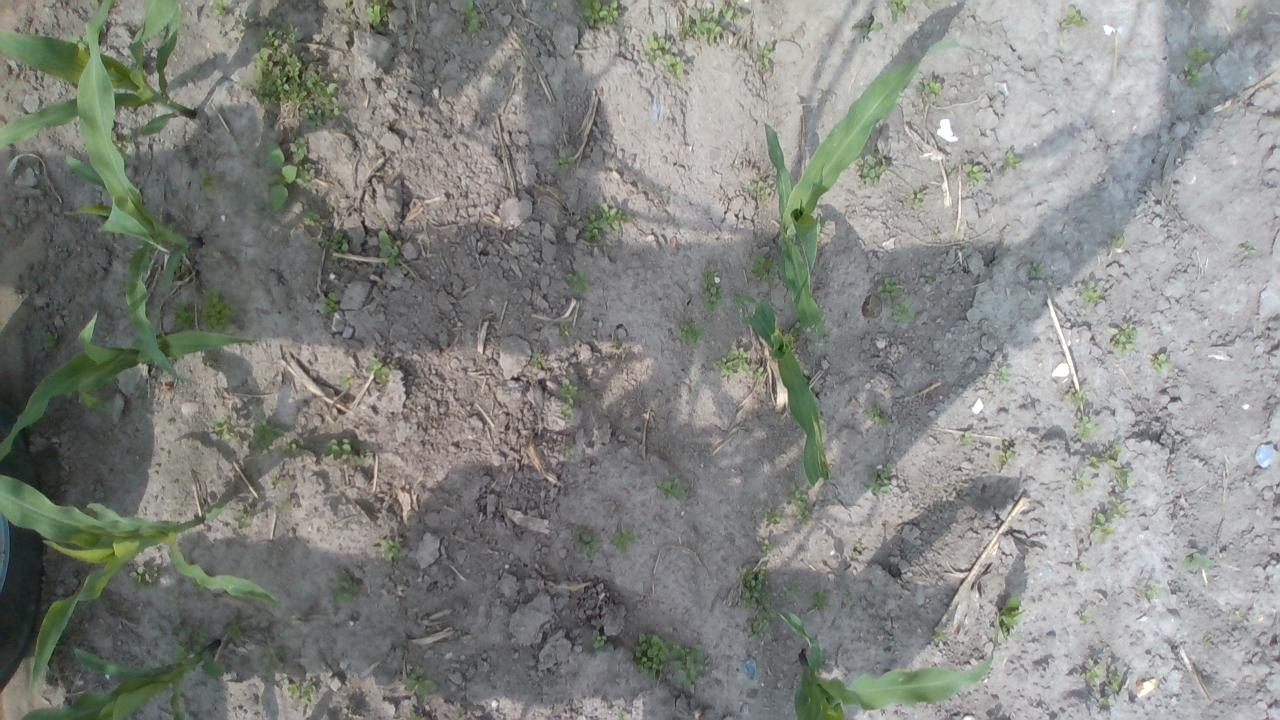Maize: (761, 34, 990, 350), (0, 470, 279, 694), (0, 240, 257, 464), (62, 0, 200, 389), (0, 0, 196, 150), (774, 601, 1002, 720), (730, 288, 837, 488), (9, 639, 226, 720)
Weeds: (241, 17, 343, 131), (631, 630, 706, 690), (735, 562, 777, 639), (257, 136, 298, 214), (198, 288, 249, 334), (642, 31, 686, 82), (873, 277, 917, 325), (582, 202, 634, 241), (167, 618, 211, 663), (678, 5, 722, 46), (1090, 496, 1126, 540), (995, 592, 1024, 644), (328, 570, 362, 611), (322, 438, 372, 465), (1182, 45, 1212, 88), (575, 0, 619, 29), (700, 264, 726, 312), (748, 246, 779, 286), (711, 345, 750, 376), (376, 228, 403, 272), (252, 419, 286, 453), (404, 666, 436, 702), (856, 152, 888, 188), (862, 461, 894, 496), (785, 483, 812, 524), (316, 232, 351, 263), (1082, 441, 1122, 468), (257, 642, 285, 679), (572, 528, 604, 560), (128, 564, 162, 594), (1109, 322, 1139, 356), (458, 0, 487, 35), (914, 76, 943, 108), (169, 298, 196, 332), (364, 356, 394, 384), (1076, 279, 1102, 310), (658, 473, 688, 499), (863, 401, 889, 431), (676, 320, 708, 344), (547, 148, 576, 174), (280, 434, 311, 458), (1077, 657, 1104, 684), (198, 166, 224, 194), (364, 0, 389, 29), (286, 682, 316, 706), (720, 0, 750, 24), (852, 16, 884, 38), (1106, 463, 1132, 490), (1060, 4, 1087, 30), (750, 42, 773, 72), (378, 534, 402, 562), (1068, 467, 1092, 495), (565, 270, 590, 296), (610, 528, 636, 553), (214, 414, 238, 441), (806, 588, 833, 612), (1072, 415, 1096, 442), (1181, 548, 1210, 570), (558, 377, 579, 406), (109, 130, 133, 154), (746, 179, 771, 202), (961, 162, 987, 184), (1063, 385, 1089, 407), (296, 162, 316, 190), (292, 130, 310, 160), (322, 292, 342, 318), (1104, 662, 1120, 694), (888, 0, 911, 22), (1136, 580, 1160, 601), (1148, 351, 1172, 372), (300, 206, 324, 226), (232, 14, 260, 31), (206, 0, 235, 16), (1001, 150, 1024, 170), (39, 328, 59, 350), (762, 505, 782, 526), (234, 506, 252, 529), (781, 580, 800, 601), (994, 446, 1016, 464), (1024, 260, 1046, 278), (68, 33, 90, 50), (749, 365, 768, 384), (590, 630, 608, 650), (930, 626, 950, 644), (224, 624, 246, 640), (558, 320, 573, 342), (906, 190, 925, 207), (1108, 231, 1128, 247), (994, 365, 1012, 382), (1078, 609, 1098, 624), (188, 577, 204, 595), (758, 538, 774, 556), (958, 428, 974, 446), (530, 350, 544, 370), (1239, 244, 1261, 256), (556, 444, 576, 456), (338, 371, 353, 386), (276, 498, 293, 510), (814, 214, 824, 233), (1097, 694, 1111, 707), (1075, 559, 1089, 572), (1235, 8, 1249, 20), (560, 406, 574, 418), (841, 588, 855, 600), (169, 594, 182, 606), (408, 709, 422, 720), (1230, 610, 1244, 621), (342, 0, 354, 12), (924, 270, 934, 284), (852, 542, 862, 556), (612, 340, 622, 350), (926, 0, 936, 7), (453, 715, 464, 720)
